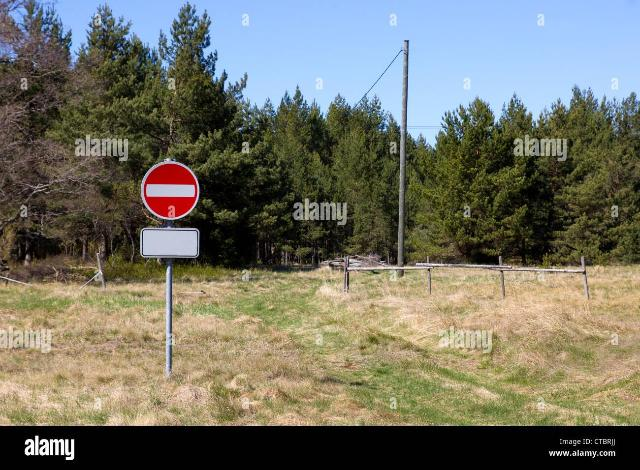B2: (140, 159, 200, 220)
